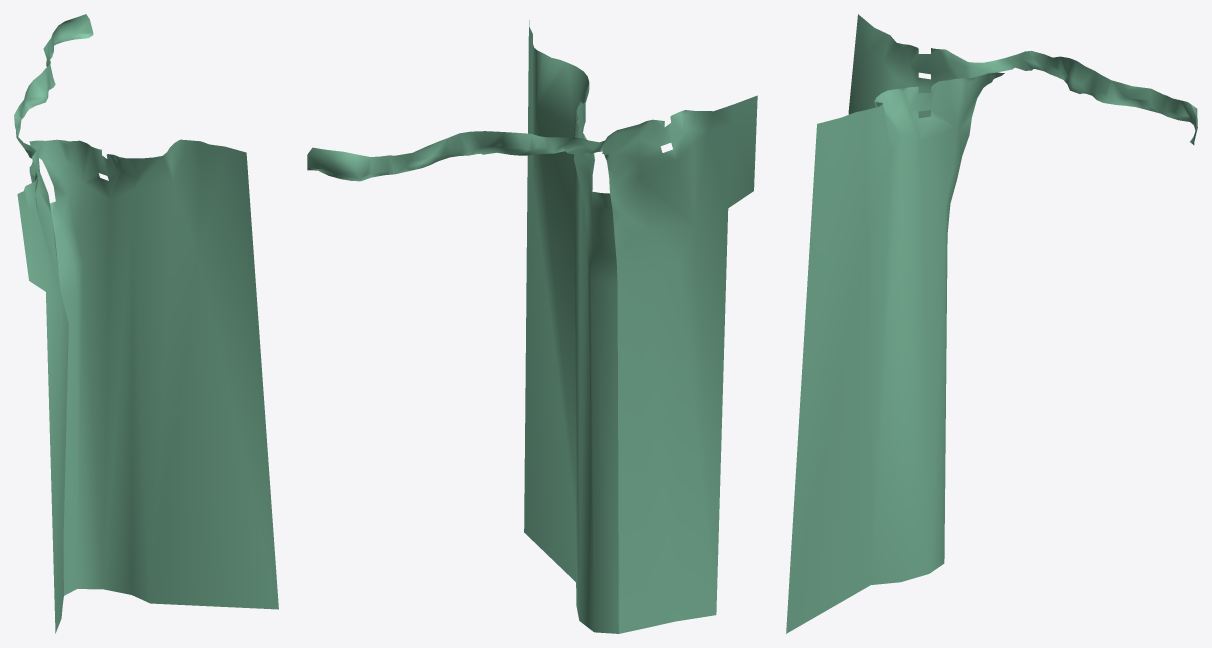
The model's file is cluster_12.fbx.
3 views of the same model, side by side, from view 1: azimuth 30°, elevation 25°; view 2: azimuth 150°, elevation 25°; view 3: azimuth 270°, elevation 25° (orthographic). The views are drawn at different scales.
Parts seen in each view (by area): view 1: cluster_12; view 2: cluster_12; view 3: cluster_12.
Boxes of the visible parts, x1=… form: cluster_12: x1=14, y1=14, x2=278, y2=633; cluster_12: x1=307, y1=20, x2=757, y2=633; cluster_12: x1=786, y1=14, x2=1197, y2=633.
Bounding box in the file's own units: 715147 × 1379088 × 1004489.
